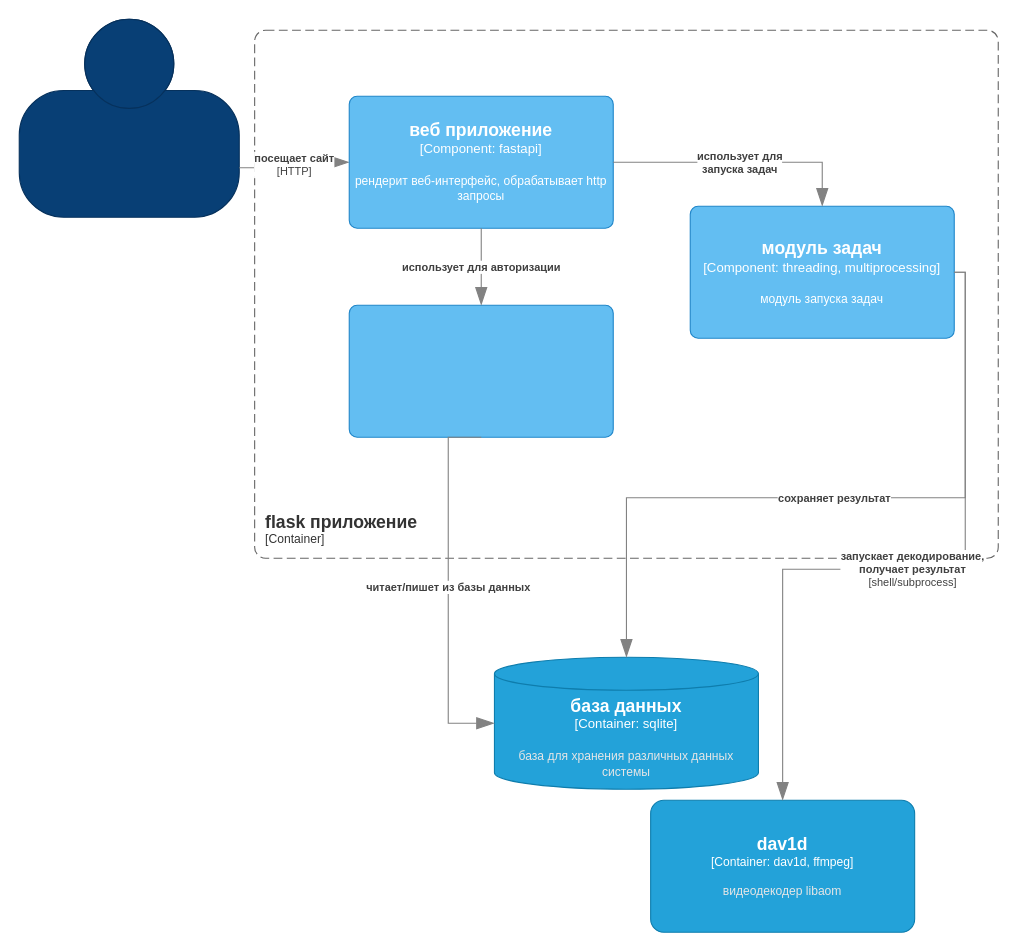
This 1018x952 diagram has some shape labels left out. Each missing label, with the centre of its shape:
модуль авторизации [Component: jwt, etc]: pixel 480 370
пользователь [Person] пользователь системы: pixel 128 117
